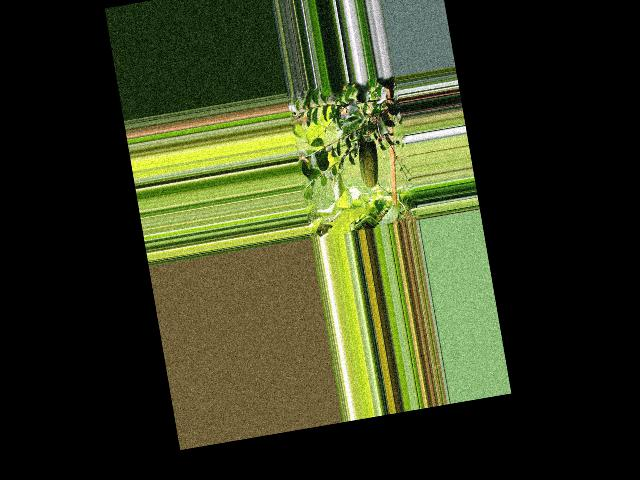cucumber: (355, 133, 383, 188)
